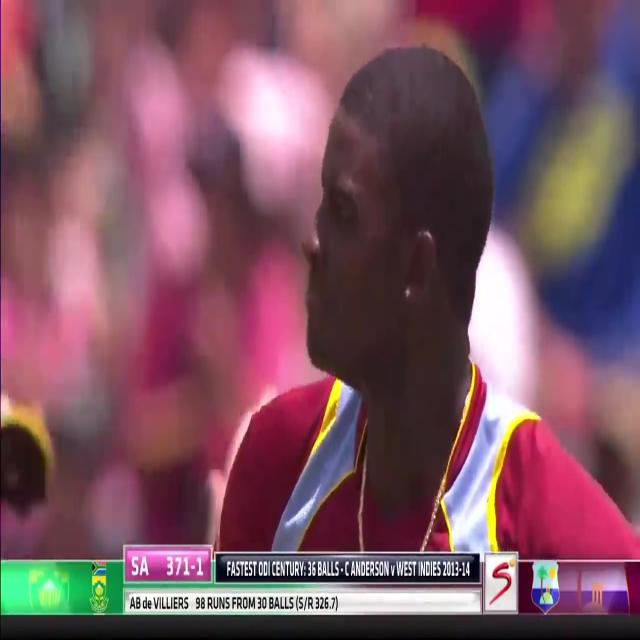Fielder: (190, 0, 640, 556)
